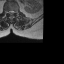CCS_normal: (10, 8, 12, 17)
LFS_normal: (14, 8, 16, 15)
LLS_normal: (12, 8, 14, 15)
RFS_normal: (6, 8, 8, 15)
RLS_normal: (8, 8, 10, 15)
